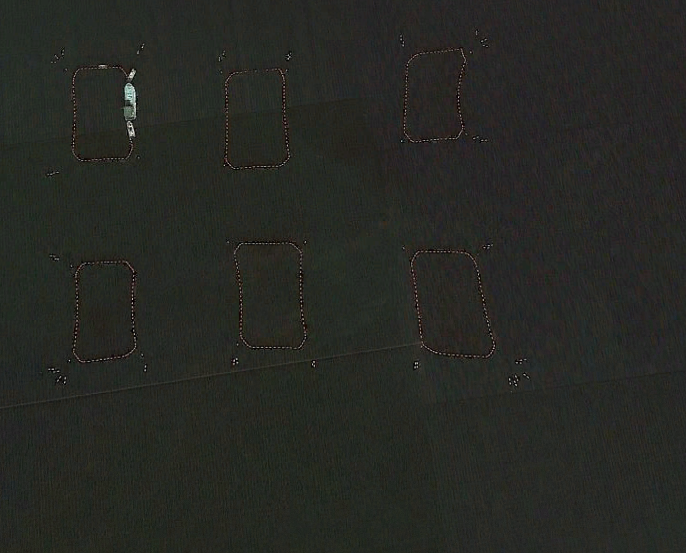ship: (120, 81, 144, 121), (121, 119, 143, 142), (124, 67, 142, 81)
square: (403, 235, 510, 371), (223, 230, 324, 358), (66, 253, 149, 367), (393, 40, 481, 147), (222, 60, 303, 176), (68, 56, 136, 164)
